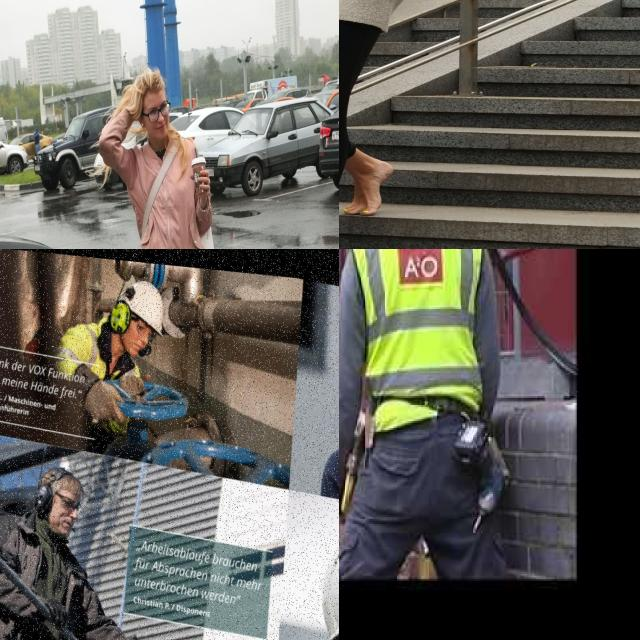Barefoots: (344, 160, 394, 216)
face_nomask: (49, 498, 78, 535), (122, 327, 148, 358)
glasses: (129, 315, 155, 341), (55, 494, 82, 511)
hand_glove: (84, 380, 126, 424), (44, 598, 66, 626)
head_helmet: (118, 281, 163, 334)
head_nohelmet: (39, 467, 84, 500)
person: (339, 249, 501, 577)
vest: (353, 249, 485, 428)
